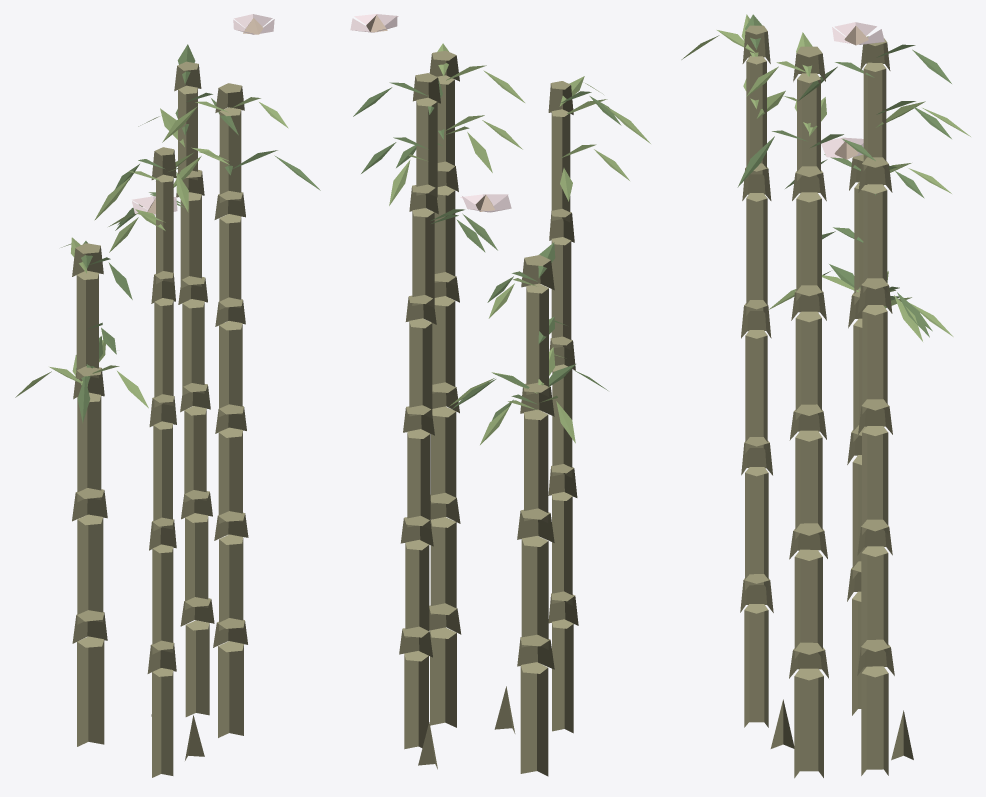
Rendered from hua.zhu__summer.glb.
3 renders of one model, left to right at view 1: azimuth 30°, elevation 25°; view 2: azimuth 150°, elevation 25°; view 3: azimuth 270°, elevation 25°, orthographic. The views are drawn at different scales.
Visible parts, largest first — view 1: hua.zhu__summer; view 2: hua.zhu__summer; view 3: hua.zhu__summer.
Boxes of the visible parts, box(x1,y1,x2,y2) form: hua.zhu__summer: box(15, 14, 320, 777); hua.zhu__summer: box(350, 14, 650, 776); hua.zhu__summer: box(681, 14, 970, 778).
Size of the model in its own units: 2.07 by 5.8 by 1.98.
